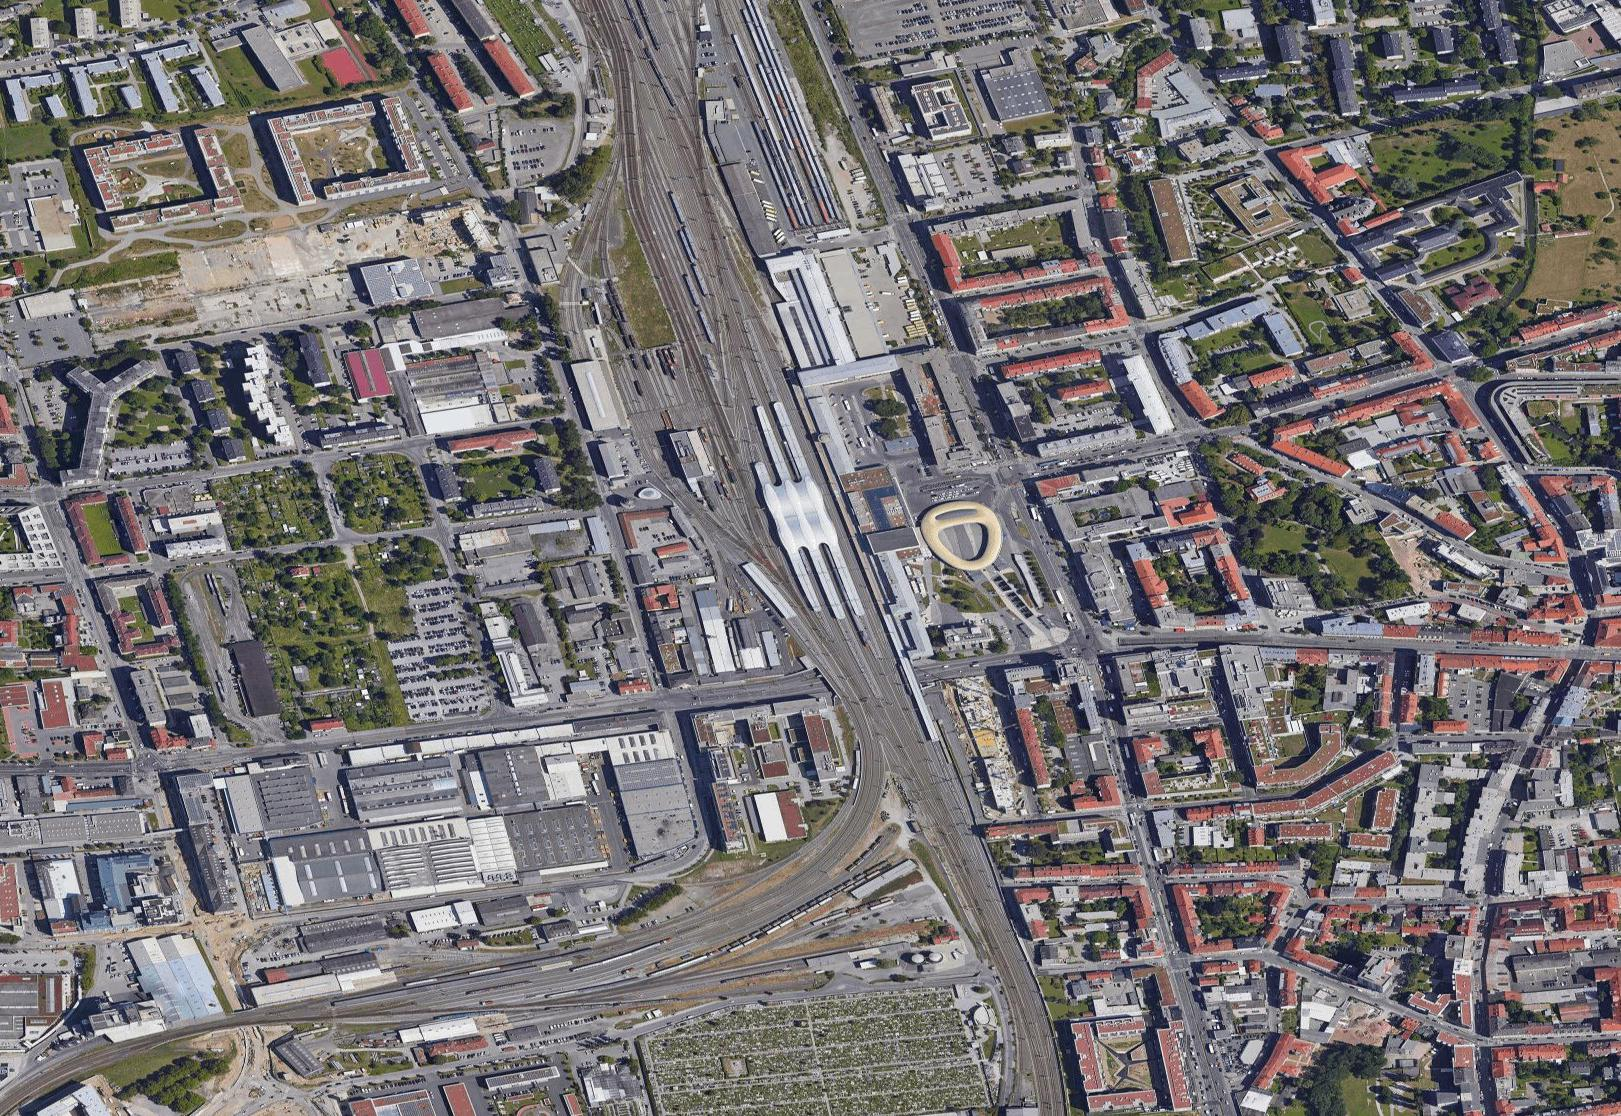train_station: (708, 374, 903, 653)
